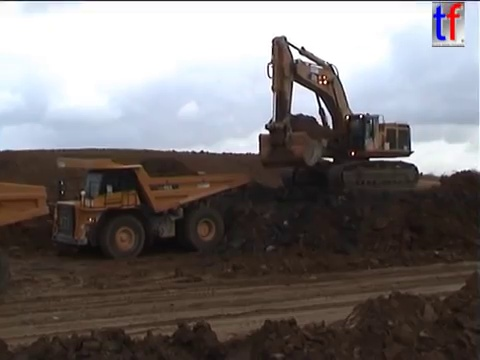excavator: (256, 34, 421, 198)
truck: (50, 155, 251, 260), (1, 178, 51, 299)
